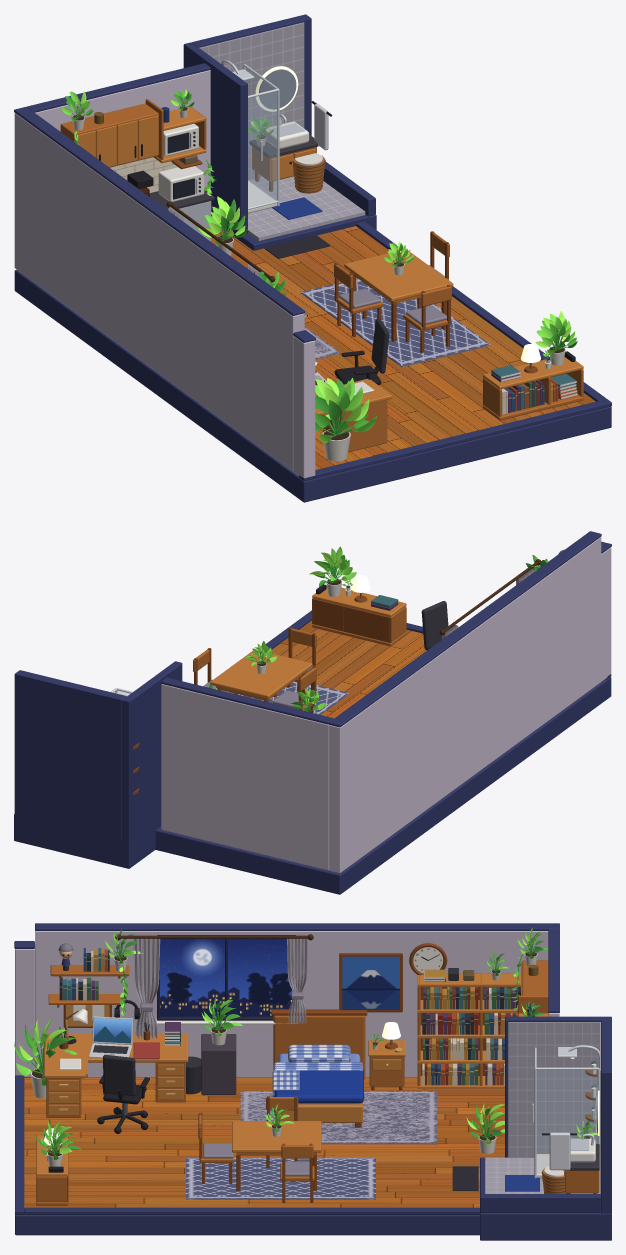
The model's file is anime-studio-room.glb.
3 renders of one model, top to bottom at view 1: azimuth 30°, elevation 25°; view 2: azimuth 150°, elevation 25°; view 3: azimuth 270°, elevation 25°, orthographic. The views are drawn at different scales.
Parts seen in each view (by area): view 1: Walls, Floor, Bathroom, Kitchen, FrontBookshelf, Rugs, DiningTable, Desk, DiningChair_Front, DiningChair_Left, OfficeChair, Window; view 2: Walls, Bathroom, Floor, FrontBookshelf, DiningTable, OfficeChair, DiningChair_Left, Rugs, DiningChair_Front, Window, DiningChair_Right; view 3: Floor, Walls, Bathroom, Window, Rugs, TallBookshelf, Bed, Desk, DeskItems, WallDecor, FrontBookshelf, StudyShelves (+9 smaller).
Boxes of the visible parts, box(x1,y1,x2,y2) form: Walls: box(14, 63, 315, 478); Floor: box(14, 221, 611, 502); Bathroom: box(183, 14, 376, 258); Kitchen: box(60, 89, 247, 255); FrontBookshelf: box(315, 311, 583, 461); Rugs: box(300, 278, 490, 366); DiningTable: box(344, 241, 453, 341); Desk: box(315, 378, 392, 452); DiningChair_Front: box(403, 284, 451, 352); DiningChair_Left: box(334, 262, 383, 336); OfficeChair: box(334, 318, 389, 385); Window: box(166, 201, 275, 282); Walls: box(161, 531, 611, 873); Bathroom: box(14, 661, 182, 868); Floor: box(155, 610, 611, 894); FrontBookshelf: box(309, 546, 406, 646); DiningTable: box(210, 641, 312, 702); OfficeChair: box(421, 601, 448, 650); DiningChair_Left: box(272, 666, 316, 710); Rugs: box(237, 681, 349, 714); DiningChair_Front: box(273, 627, 316, 697); Window: box(439, 559, 541, 638); DiningChair_Right: box(193, 648, 237, 694); Floor: box(15, 1075, 504, 1235); Walls: box(14, 923, 559, 1077); Bathroom: box(452, 1016, 611, 1240); Window: box(115, 934, 313, 1038); Rugs: box(186, 1091, 437, 1199); TallBookshelf: box(417, 952, 520, 1088); Bed: box(271, 1009, 367, 1127); Desk: box(44, 1034, 188, 1117); DeskItems: box(59, 996, 242, 1094); WallDecor: box(339, 943, 447, 1012); FrontBookshelf: box(14, 1017, 81, 1205); StudyShelves: box(48, 927, 142, 1015).
Size of the model in its own units: 4.79 by 2.84 by 8.21.
83 materials, 12 textured.
